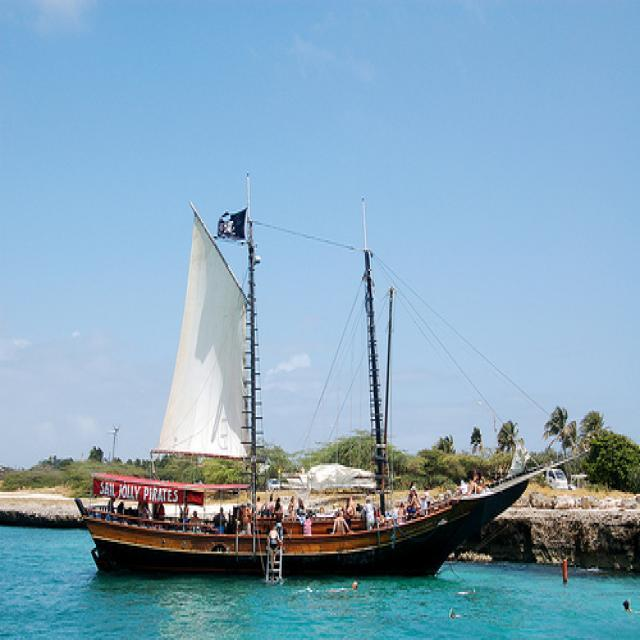Ship: (75, 190, 583, 589)
